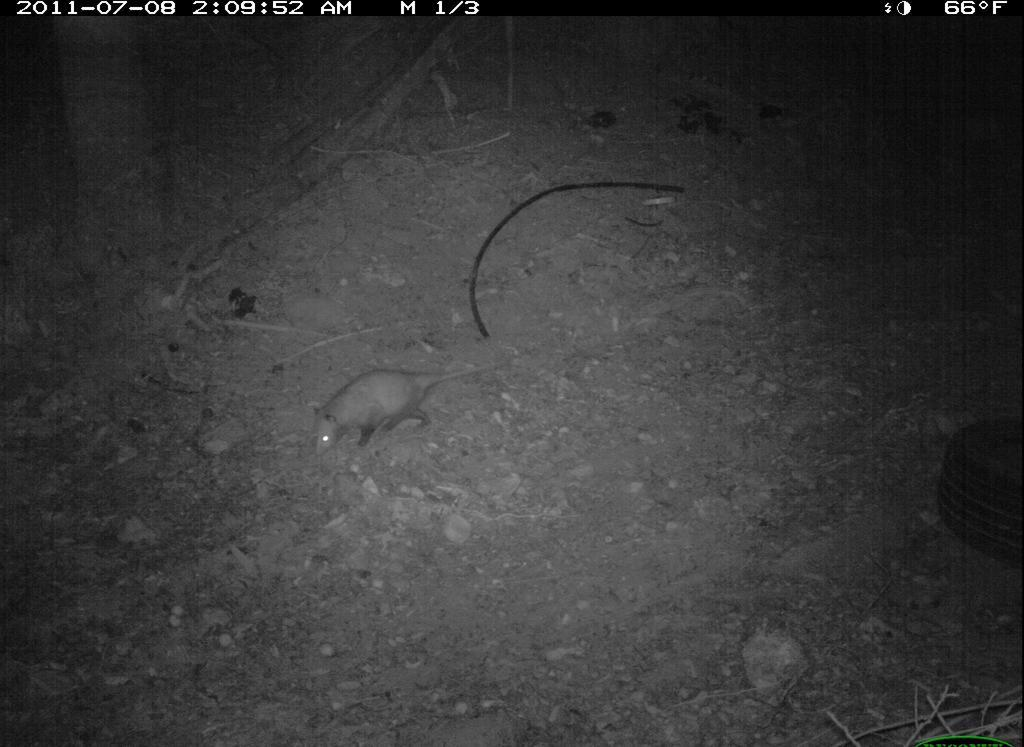opossum: (304, 351, 525, 466)
